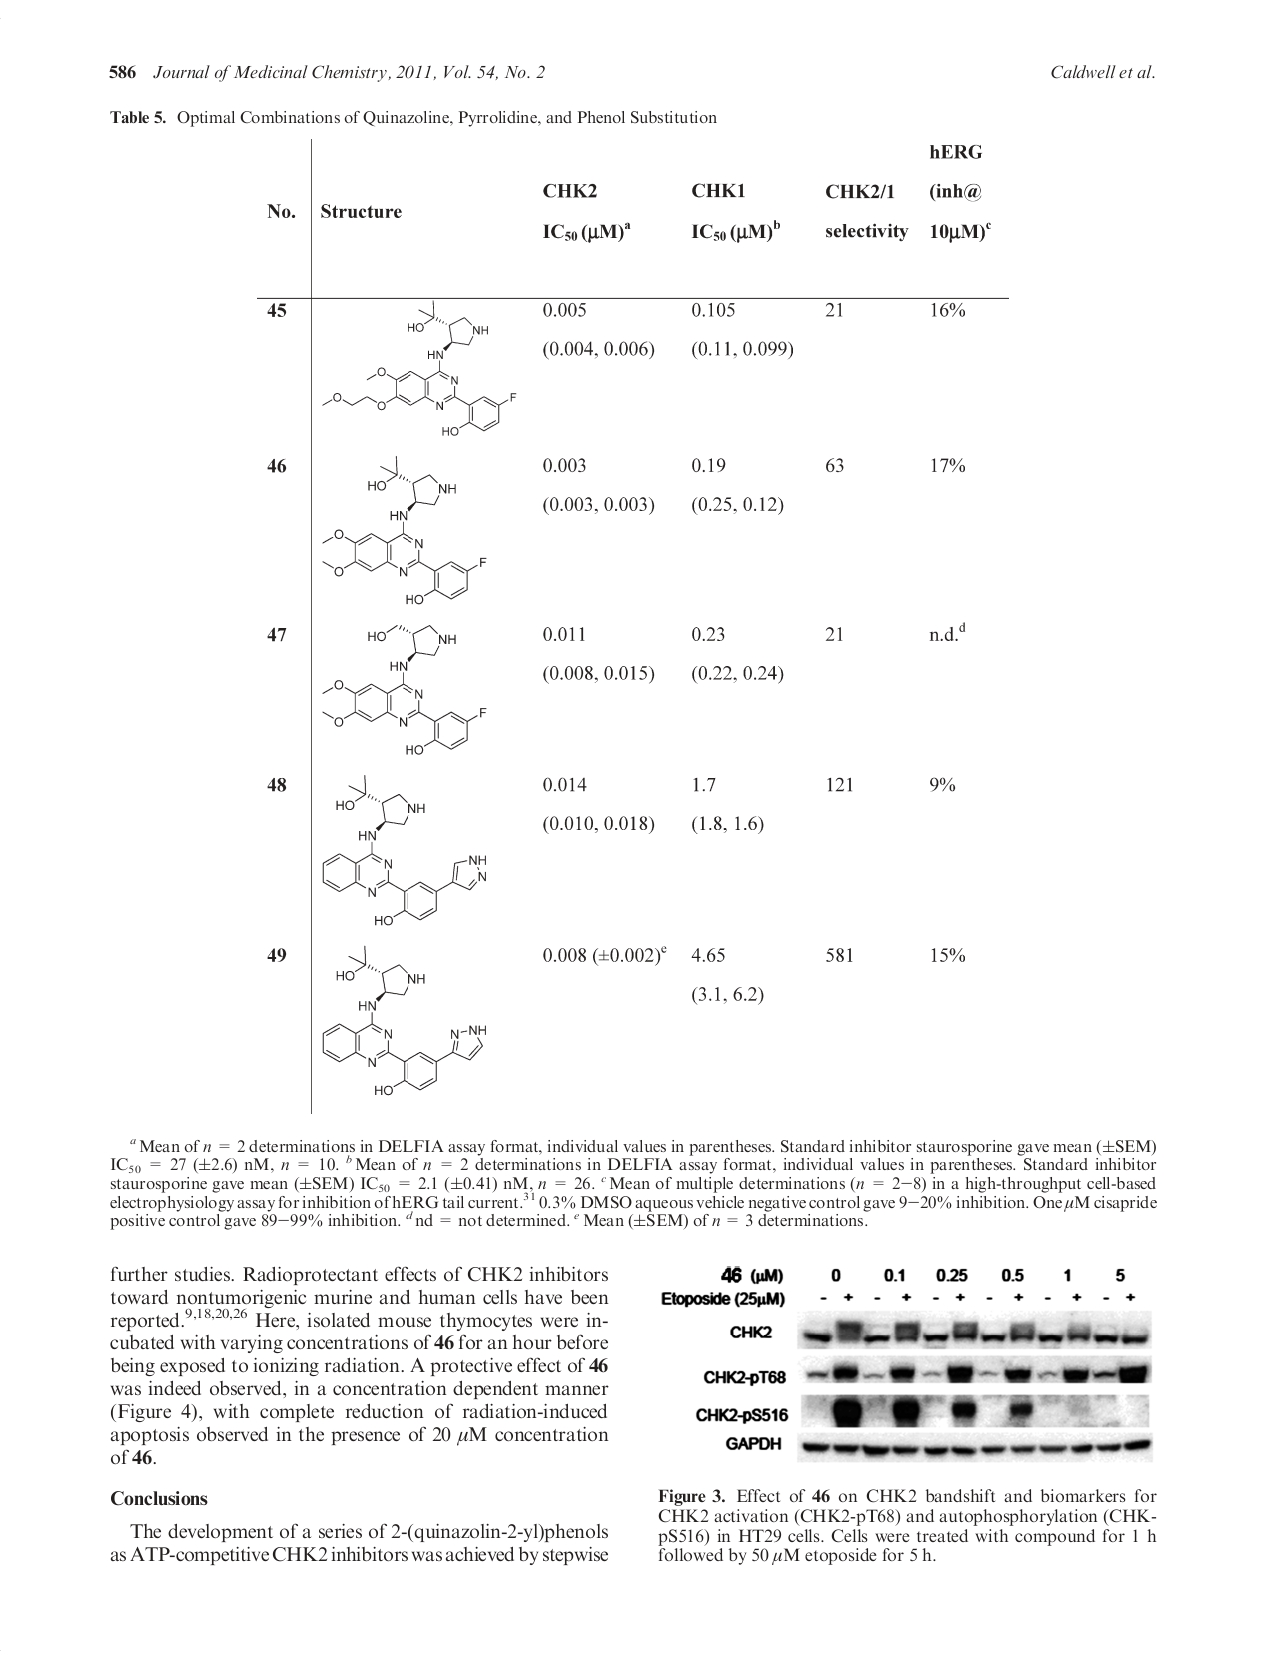exist_molecular: (319, 938, 493, 1101), (320, 301, 519, 443), (320, 448, 492, 606), (320, 771, 492, 928), (316, 617, 487, 757)
